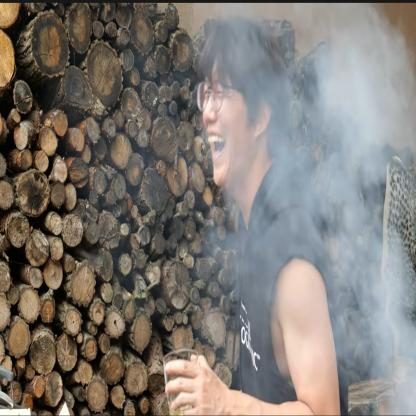streamer: (161, 16, 348, 416)
